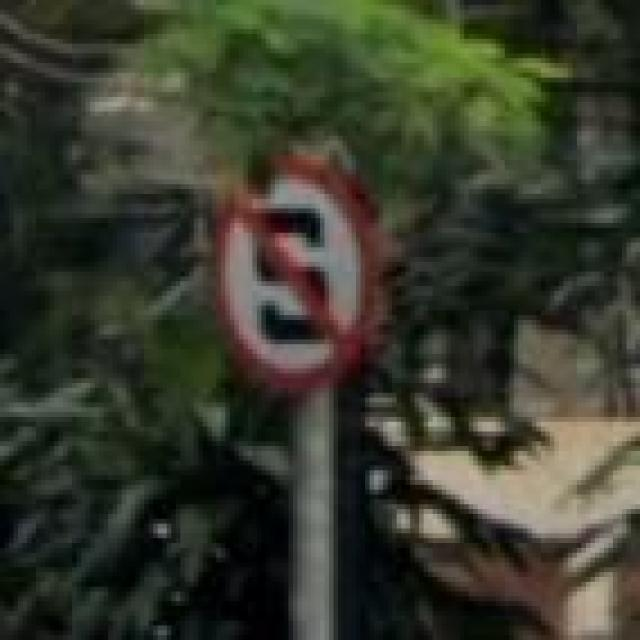traffic sign: (212, 155, 383, 388)
